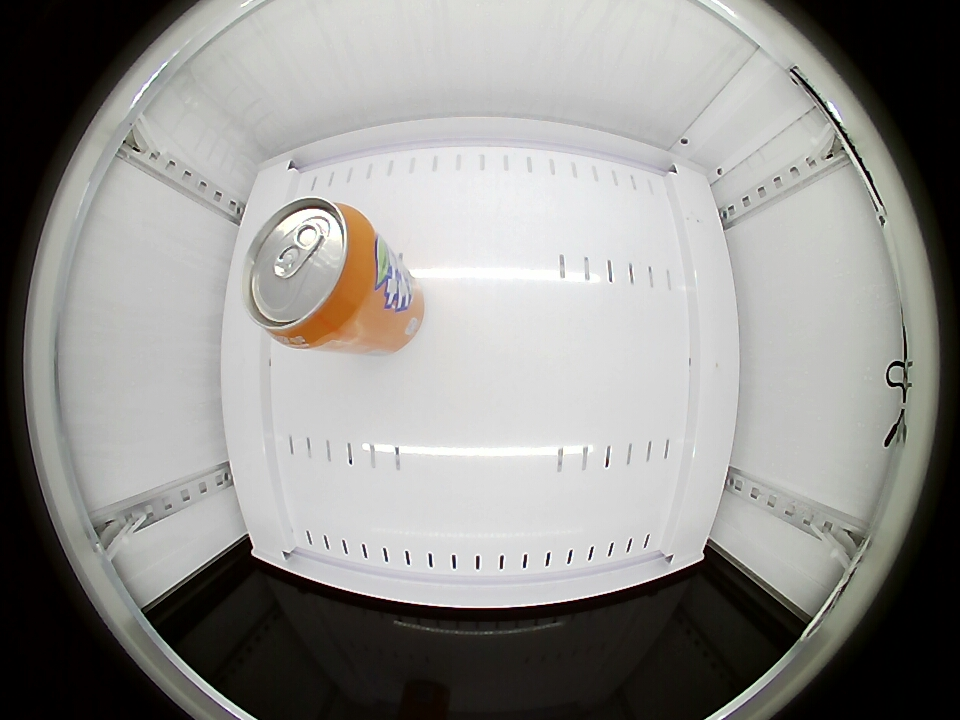fenda: (244, 197, 381, 348)
